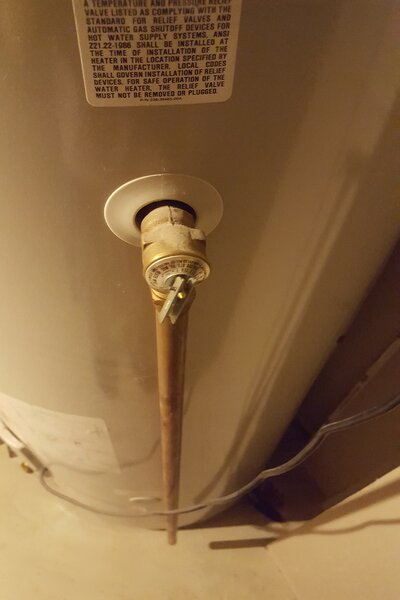valve: (134, 197, 209, 332)
